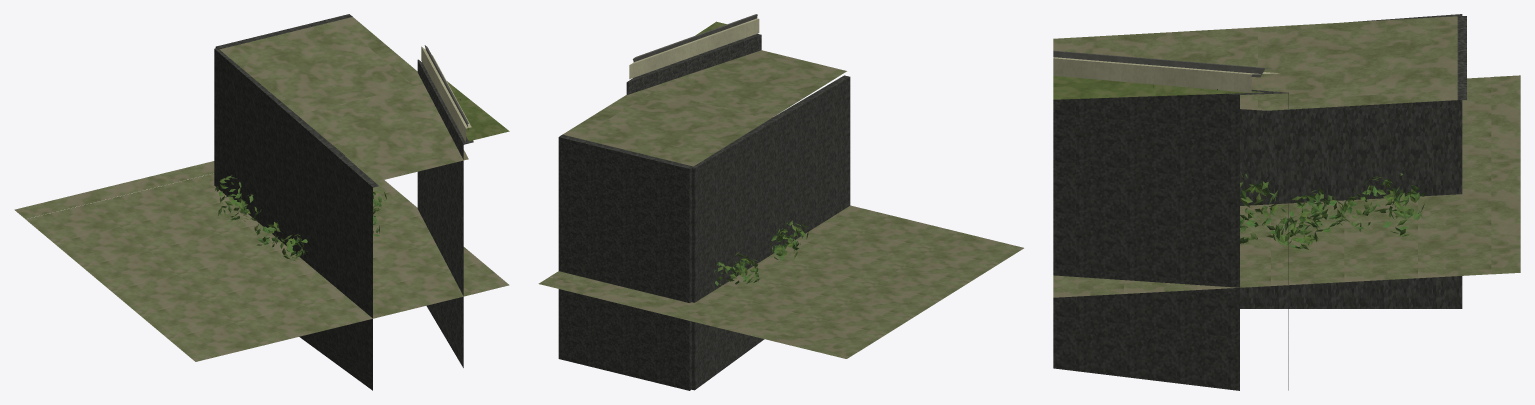
3 views of the same model, side by side, from view 1: azimuth 30°, elevation 25°; view 2: azimuth 150°, elevation 25°; view 3: azimuth 270°, elevation 25° (orthographic). The views are drawn at different scales.
Bounding box in the file's own units: 16 × 12.18 × 16.
7 materials, 7 textured.
